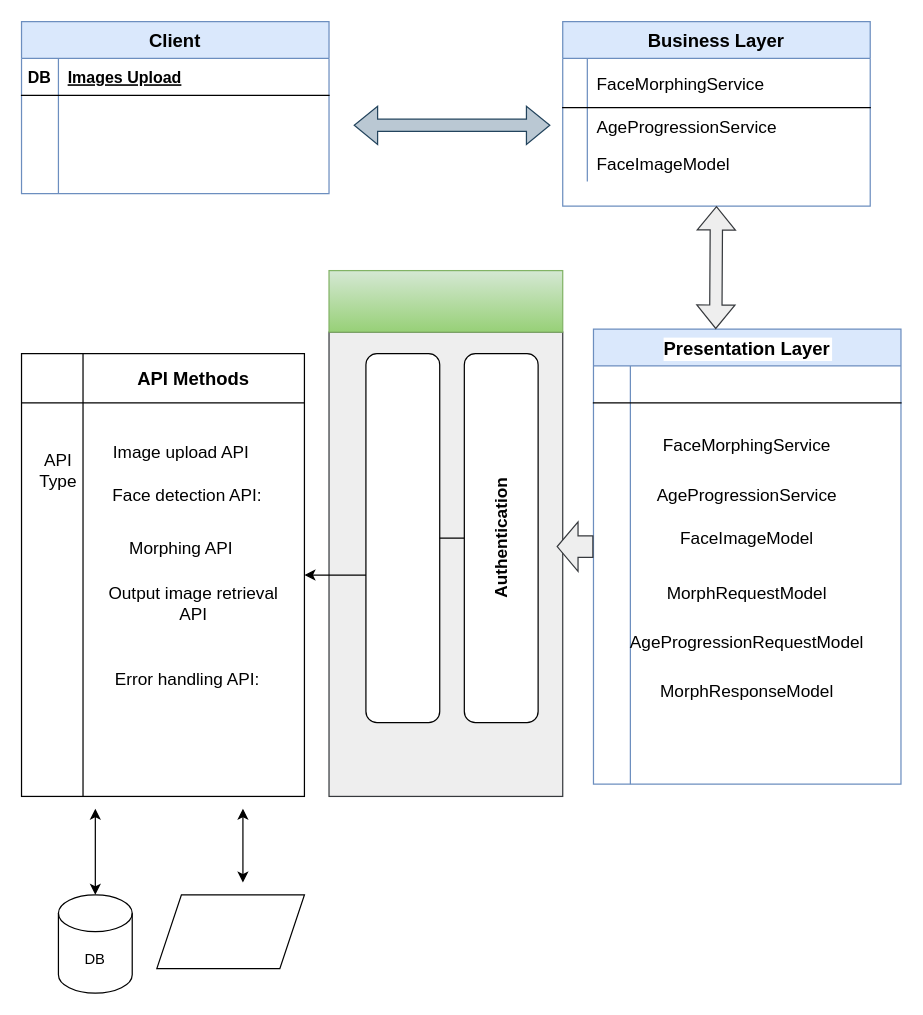
Some shapes in this 923 by 1015 pixel diagram are drawn without their labels. The centre of each missing label's shape, as x and y in pixels:
Authorization: the point at 402,537
OpenCv: the point at 230,931
Security: the point at 445,300
